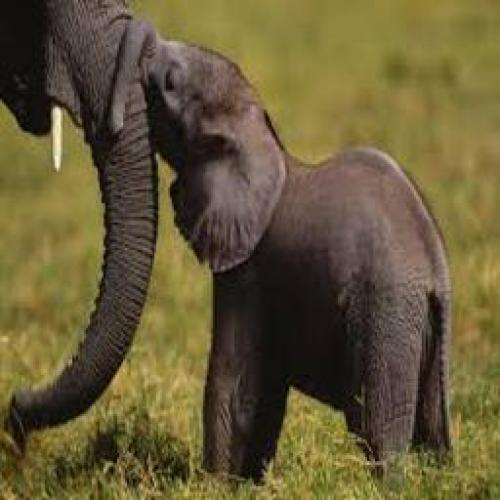african_elephant-endangered: (136, 34, 452, 492), (2, 0, 164, 447)
